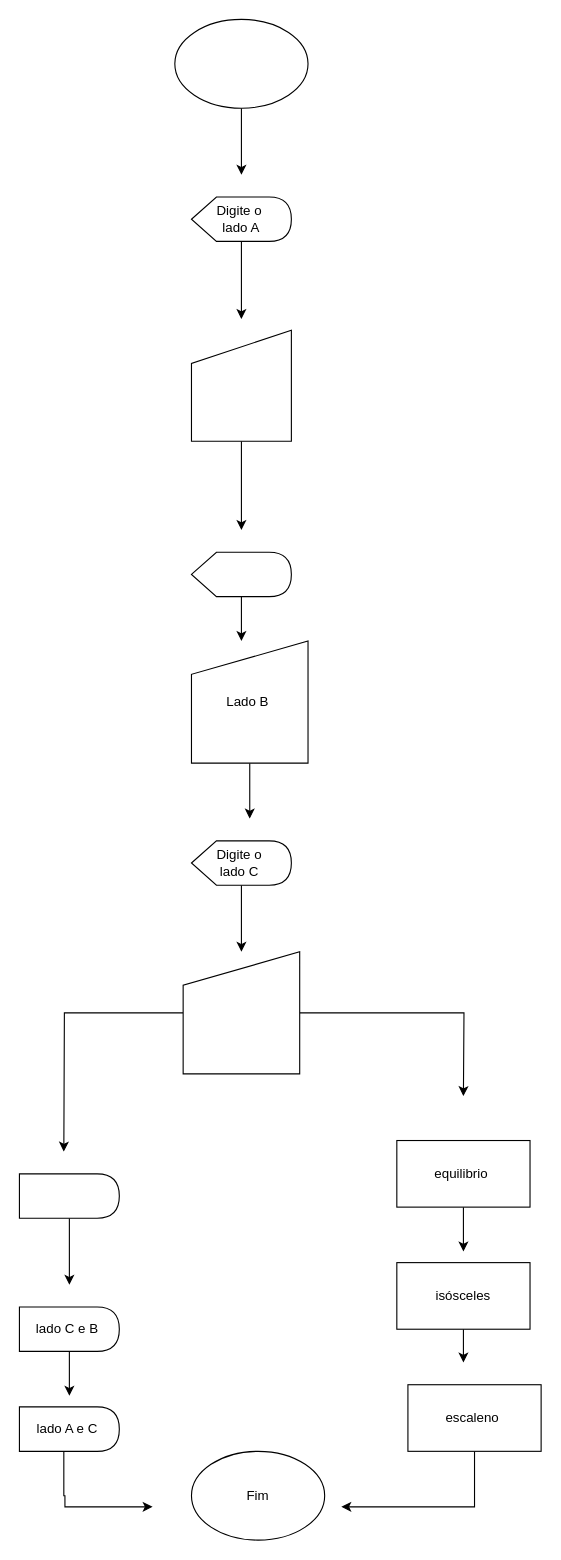
Some shapes in this 561 by 1560 pixel diagram are drawn without their labels. Each missing label, with the centre of its shape:
"Digite o lado B" belongs at pixel 240 574.
"Inicio" belongs at pixel 241 63.
"Lado A" belongs at pixel 240 385.
"lado A e B" belongs at pixel 68 1195.
"Lado C" belongs at pixel 241 1012.
